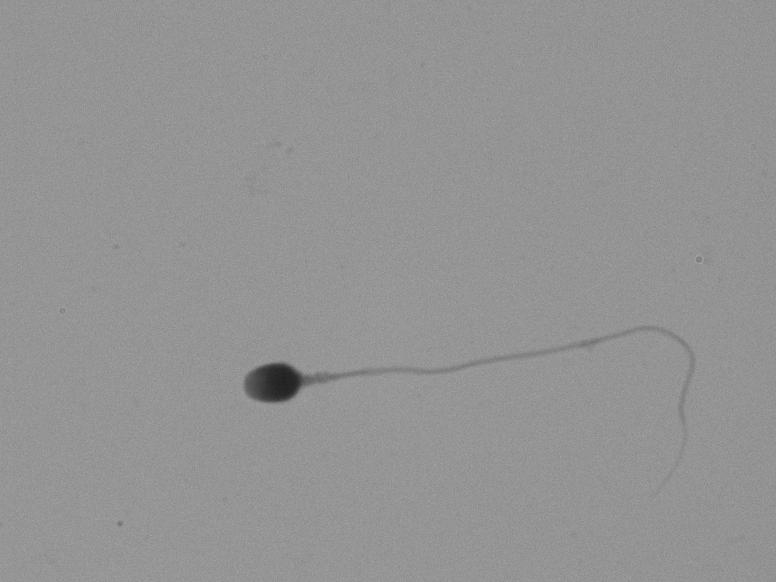Normal: (205, 244, 707, 477)
